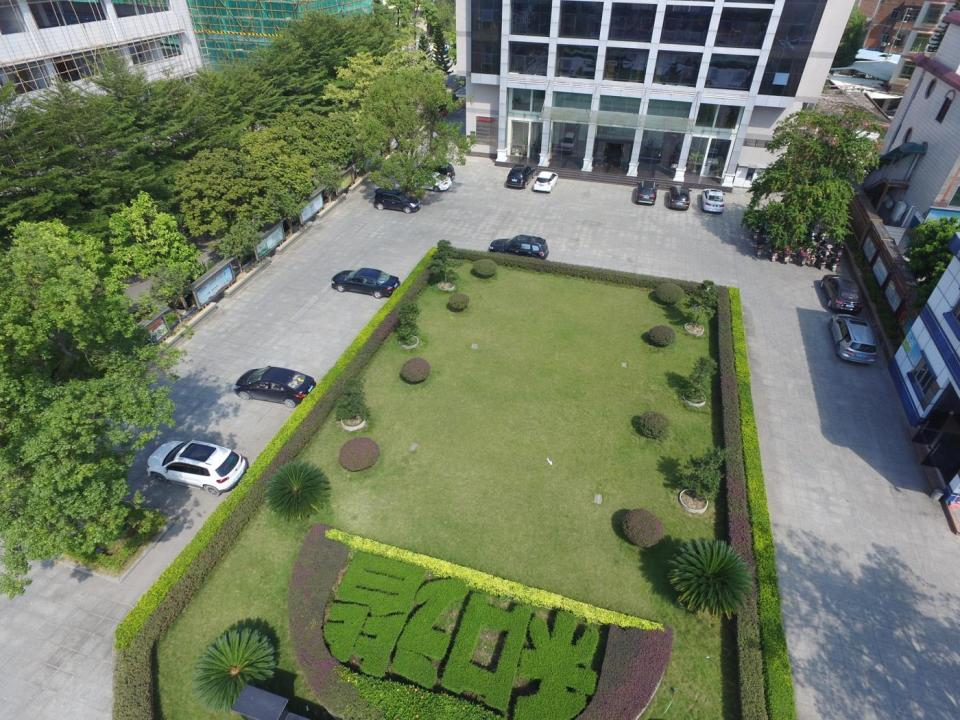car: (146, 439, 248, 496), (234, 365, 317, 408), (829, 315, 876, 365), (331, 268, 401, 298), (820, 274, 862, 314), (490, 234, 548, 262), (374, 188, 421, 213), (402, 171, 451, 192), (407, 160, 456, 180), (506, 164, 536, 188), (668, 185, 692, 210), (702, 189, 726, 213), (636, 180, 659, 205), (534, 170, 558, 191)
